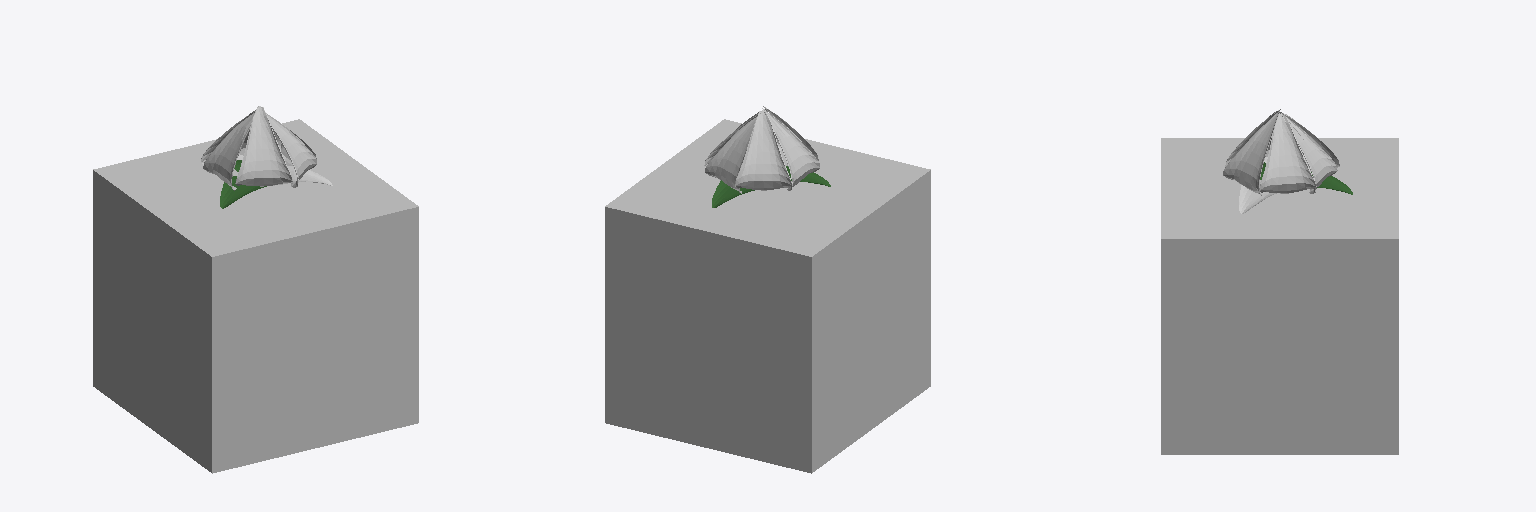
The picture shows the model from 3 angles: view 1: azimuth 30°, elevation 25°; view 2: azimuth 150°, elevation 25°; view 3: azimuth 270°, elevation 25°; orthographic projection.
Visible parts, largest first — view 1: Box001.061, Circle.029, Circle.030, Circle.028, Circle.004; view 2: Box001.061, Circle.033, Circle.032, Circle.030; view 3: Box001.061, Circle.031, Circle.028, Circle.032.
Part boxes in pixels (left/top/right/bottom): Box001.061: left=93, top=119, right=418, bottom=473; Circle.029: left=235, top=106, right=292, bottom=186; Circle.030: left=203, top=113, right=254, bottom=190; Circle.028: left=266, top=113, right=316, bottom=187; Circle.004: left=220, top=176, right=266, bottom=208; Box001.061: left=605, top=119, right=930, bottom=473; Circle.033: left=735, top=110, right=791, bottom=190; Circle.032: left=705, top=109, right=764, bottom=193; Circle.030: left=762, top=108, right=819, bottom=190; Box001.061: left=1161, top=138, right=1398, bottom=454; Circle.031: left=1259, top=113, right=1316, bottom=193; Circle.028: left=1223, top=111, right=1279, bottom=195; Circle.032: left=1281, top=113, right=1337, bottom=193.
Bounding box in the file's own units: 0.254 × 0.3488 × 0.254.
Materials: 5 (1 with a texture image).